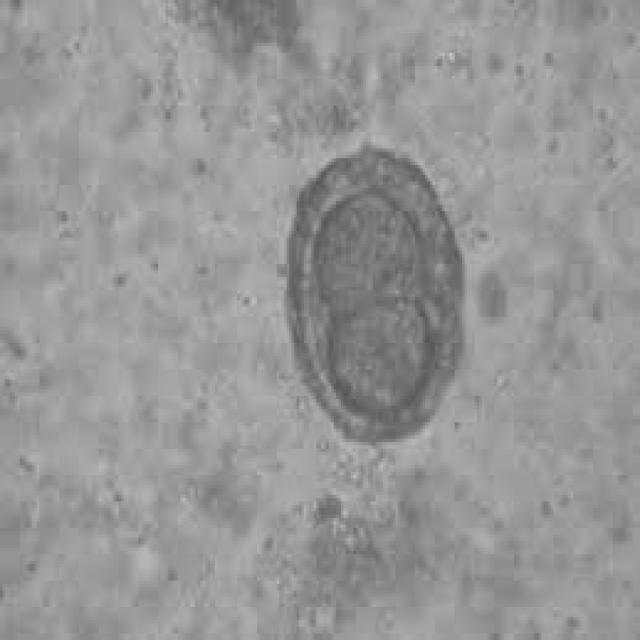Ascaris Lumbricoides: (281, 136, 473, 456)
